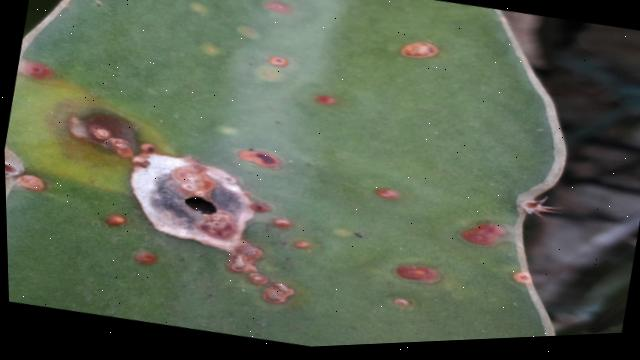stemcanker: (452, 217, 510, 247), (232, 145, 285, 175), (396, 36, 444, 60), (93, 209, 133, 235), (395, 264, 442, 286), (128, 246, 162, 269), (261, 50, 293, 73), (369, 182, 404, 203), (310, 87, 341, 110)
